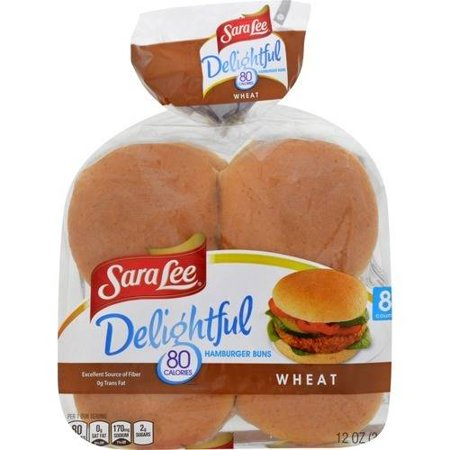hamburger_buns: (60, 81, 396, 450)
